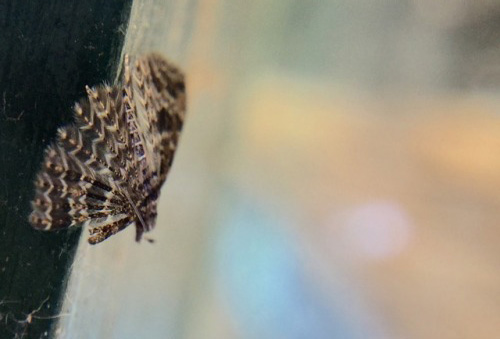Alucitidae: (25, 44, 185, 249)
moth: (27, 46, 187, 251)
